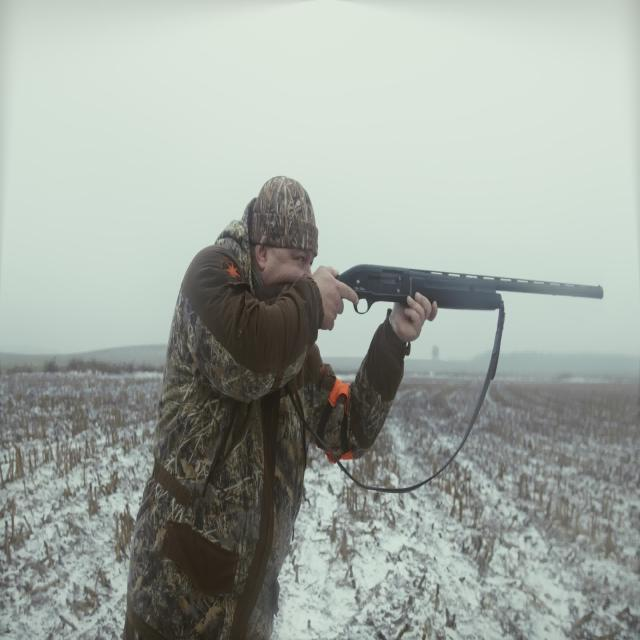poacher: (245, 210, 440, 595)
weapon: (344, 272, 628, 346)
